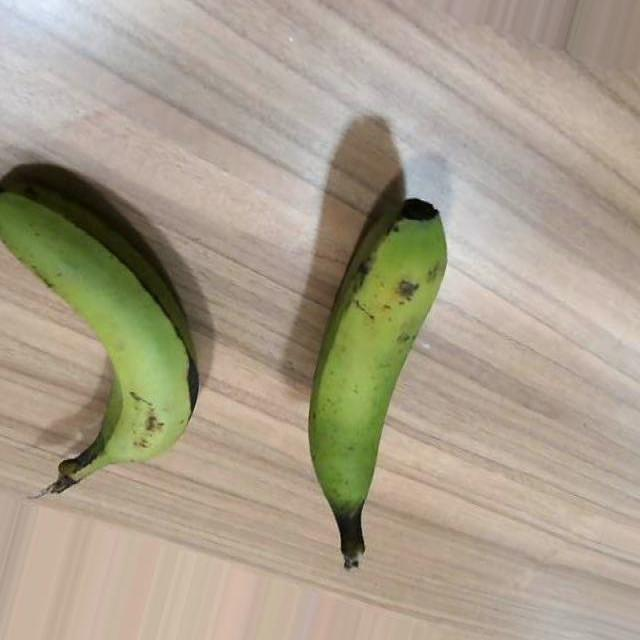Unripe: (0, 185, 201, 498), (306, 199, 448, 572)
